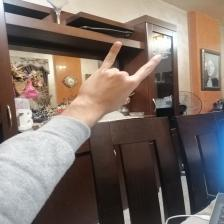five: (80, 40, 162, 116)
